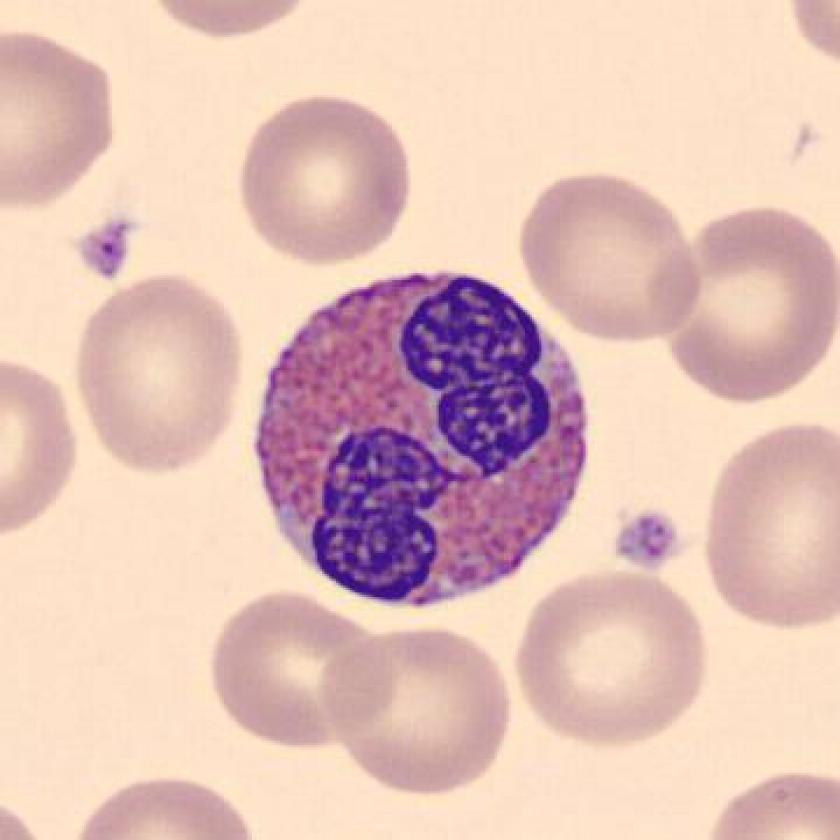eosinophil: (246, 263, 605, 617)
